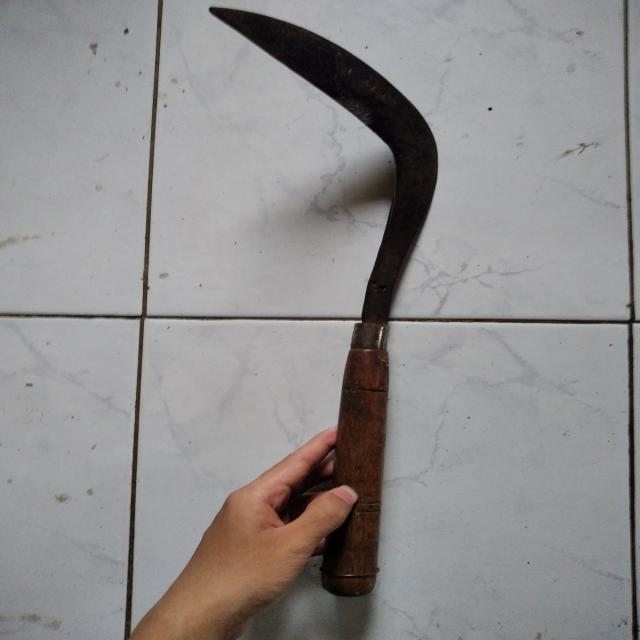Celurit: (210, 4, 440, 596)
